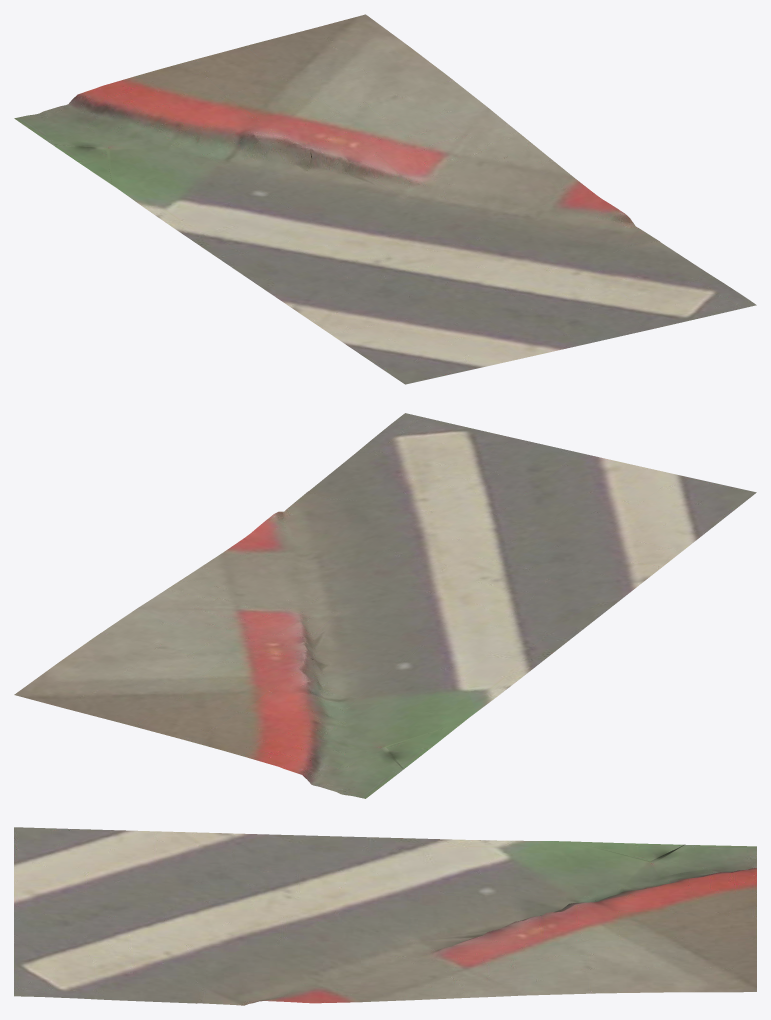
3 views of the same model, one above another, from view 1: azimuth 30°, elevation 25°; view 2: azimuth 150°, elevation 25°; view 3: azimuth 270°, elevation 25° (orthographic). The views are drawn at different scales.
Bounding box in the file's own units: 3.41 × 0.1991 × 6.57.
Materials: 1 (1 with a texture image).
